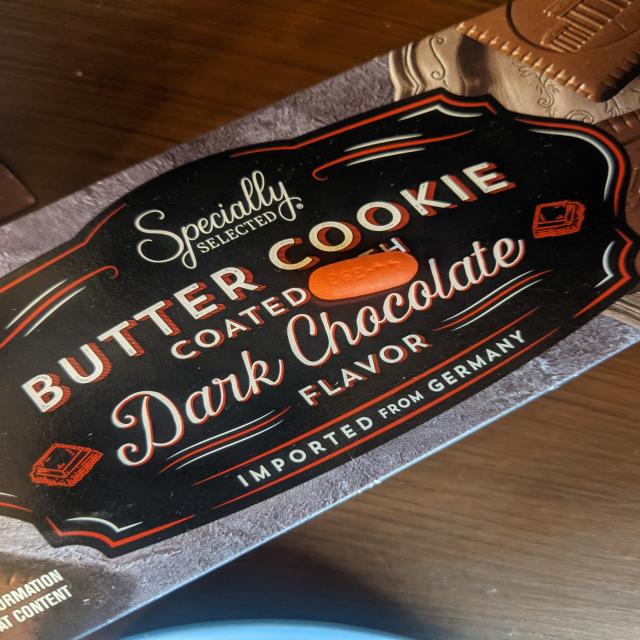non-organic waste: (307, 250, 419, 300)
